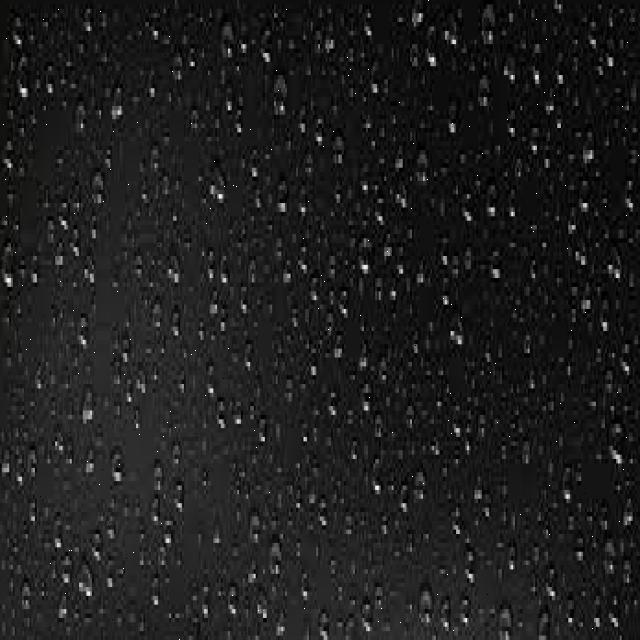raindrop: (212, 1, 239, 72), (605, 407, 629, 485), (438, 78, 464, 150), (524, 24, 546, 103), (455, 535, 483, 597), (104, 65, 128, 133), (205, 150, 228, 220), (268, 60, 292, 126), (438, 0, 464, 60), (412, 575, 436, 640), (481, 167, 503, 237), (604, 240, 628, 304), (421, 20, 444, 86), (350, 226, 374, 289), (444, 300, 468, 362), (73, 302, 95, 369), (574, 169, 594, 242), (455, 182, 479, 242), (14, 44, 34, 116), (368, 177, 390, 242), (71, 554, 97, 608), (265, 530, 288, 590), (494, 588, 520, 640), (75, 374, 96, 438), (498, 39, 520, 100), (0, 232, 18, 306), (477, 1, 502, 54), (598, 526, 618, 592), (242, 500, 266, 553), (106, 439, 128, 496), (615, 334, 640, 384), (162, 242, 186, 294), (409, 128, 429, 190), (559, 455, 578, 519), (367, 448, 387, 506), (472, 70, 493, 125), (578, 130, 600, 180), (358, 374, 378, 429), (569, 528, 593, 572), (212, 250, 232, 302), (222, 573, 240, 630), (485, 248, 507, 294), (211, 396, 234, 440), (332, 280, 354, 326), (274, 172, 294, 220), (570, 228, 590, 275), (594, 289, 612, 340), (604, 592, 626, 632), (600, 32, 620, 76), (412, 458, 428, 512), (167, 303, 184, 352), (159, 516, 182, 552), (371, 403, 388, 451)
